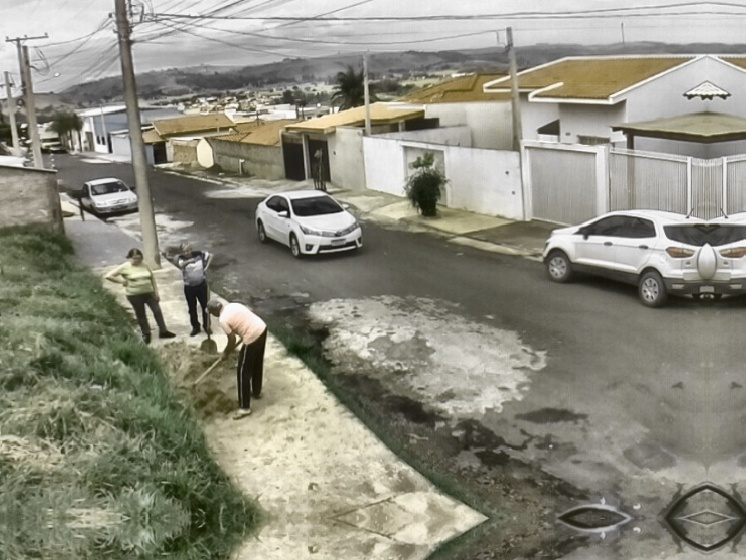person: (203, 299, 269, 420), (102, 249, 175, 343), (176, 242, 216, 335)
